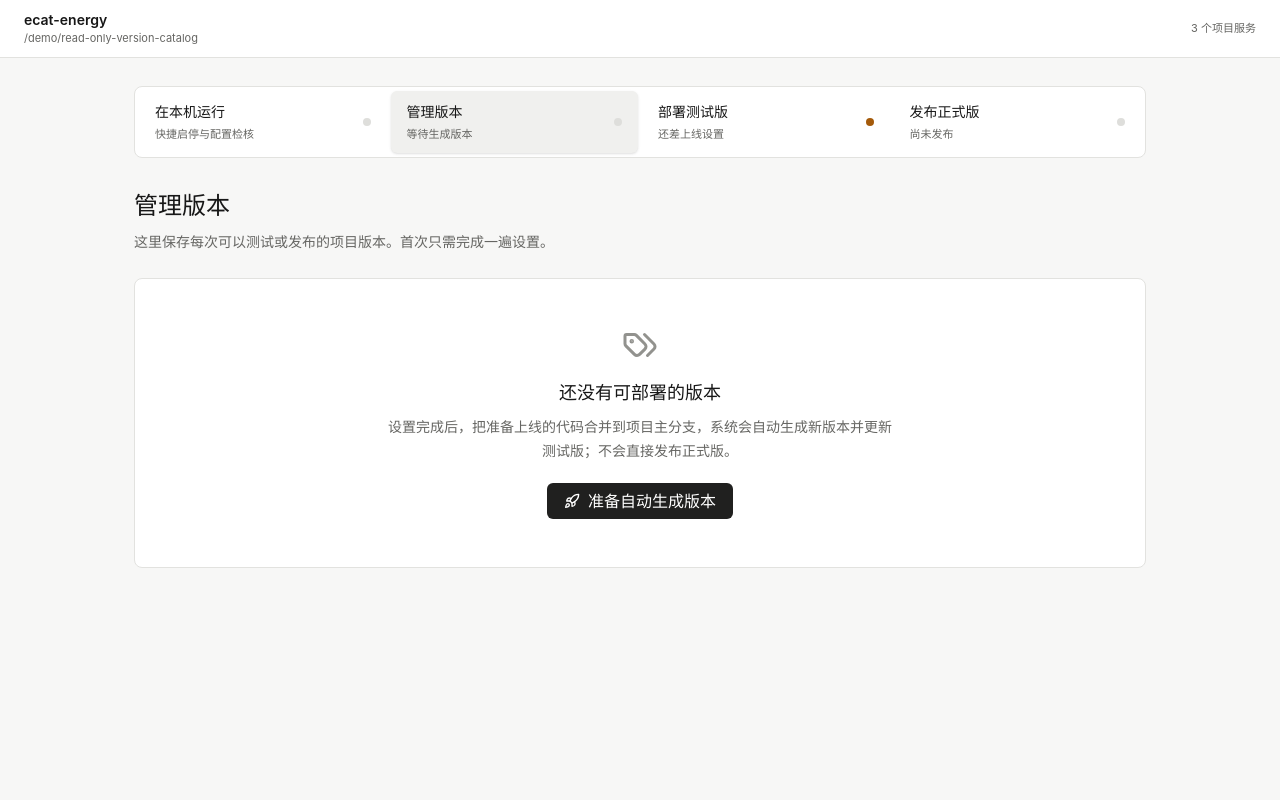
Test: ProductWorkspace blocking states › keeps version browsing read-only until the user starts setup
This screenshot has width=1280, height=800.
Expected: the heading "还没有可部署的版本" is shown, [559, 382, 721, 403]
Expected: the text "设置完成后，把准备上线的代码合并到项目主分支，系统会自动生成新版本并更新测试版；不会直接发布正式版。" is shown, [384, 415, 896, 463]
Click the button "准备自动生成版本" at (640, 501), box [547, 483, 733, 519]
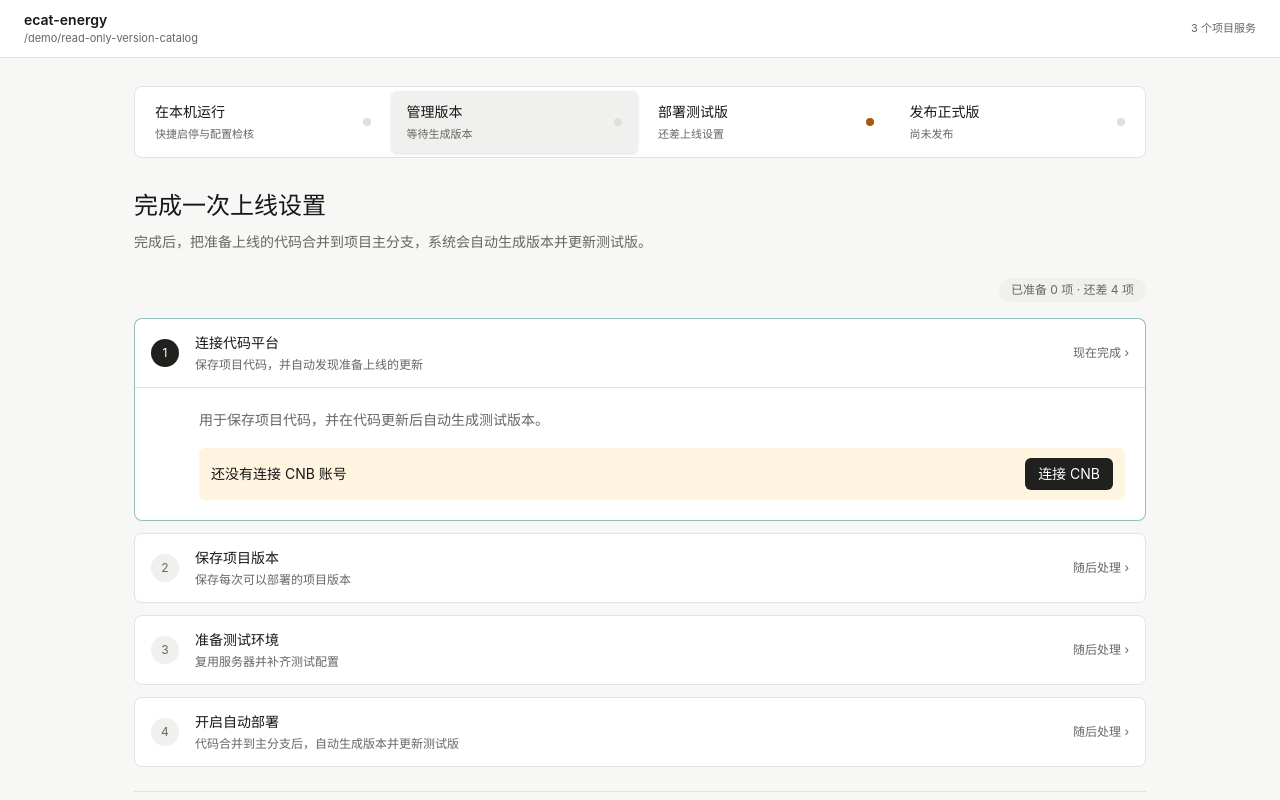
Now the heading "完成一次上线设置" is shown, box [134, 191, 326, 220]
